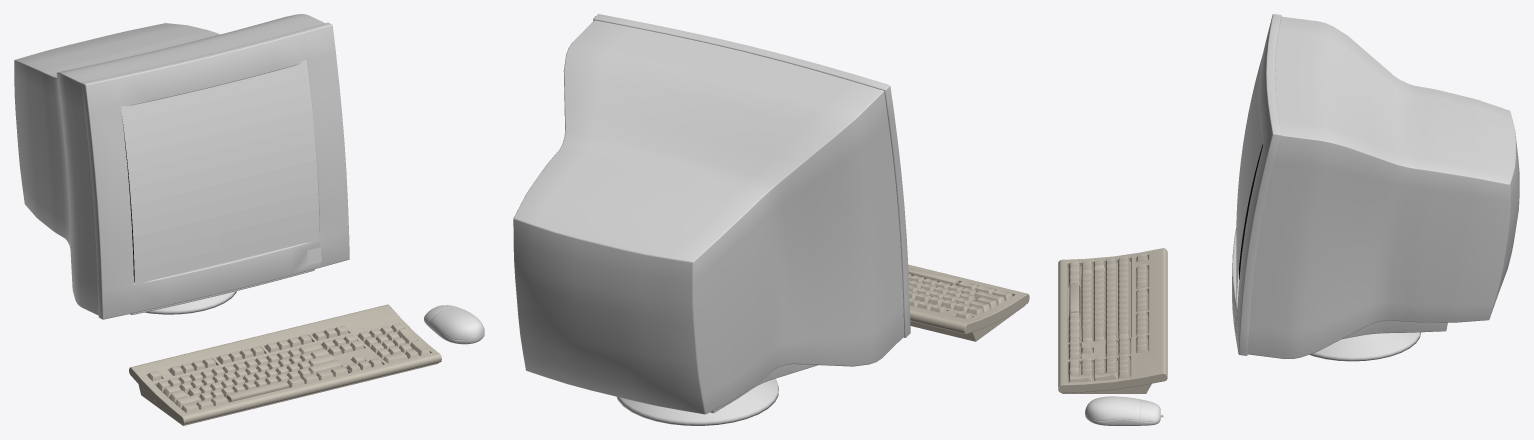
Rendered from Monitor2.glb.
The picture shows the model from 3 angles, left to right: view 1: azimuth 30°, elevation 25°; view 2: azimuth 150°, elevation 25°; view 3: azimuth 270°, elevation 25°; orthographic projection. The views are drawn at different scales.
Visible parts, largest first — view 1: Keyboard_Plane.014, Screen; view 2: Keyboard_Plane.014; view 3: Keyboard_Plane.014, Screen.
Boxes of the visible parts, x1,y1,x2,y2 form: Keyboard_Plane.014: (14,14,484,425); Screen: (121,60,319,286); Keyboard_Plane.014: (513,14,1029,425); Keyboard_Plane.014: (1058,14,1519,425); Screen: (1236,54,1262,309).
Bounding box in the file's own units: 3.04 × 2.36 × 3.77.
